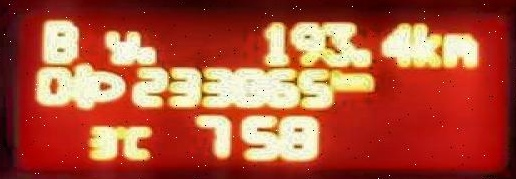-: (352, 46, 372, 67), (138, 43, 155, 65)
0: (31, 64, 70, 107)
1: (258, 19, 287, 65)
2: (126, 65, 165, 108)
3: (198, 64, 232, 108), (322, 19, 352, 65), (168, 64, 198, 108), (85, 123, 115, 162)
4: (378, 21, 412, 67)
5: (236, 113, 275, 162), (296, 67, 330, 108)
6: (263, 65, 297, 108)
7: (188, 110, 232, 159)
8: (277, 112, 317, 162), (232, 65, 263, 108)
9: (287, 18, 322, 67)
X: (37, 15, 77, 63), (97, 26, 137, 67), (411, 18, 440, 68), (442, 30, 477, 68), (123, 123, 148, 159), (345, 72, 373, 92), (330, 66, 345, 92)
